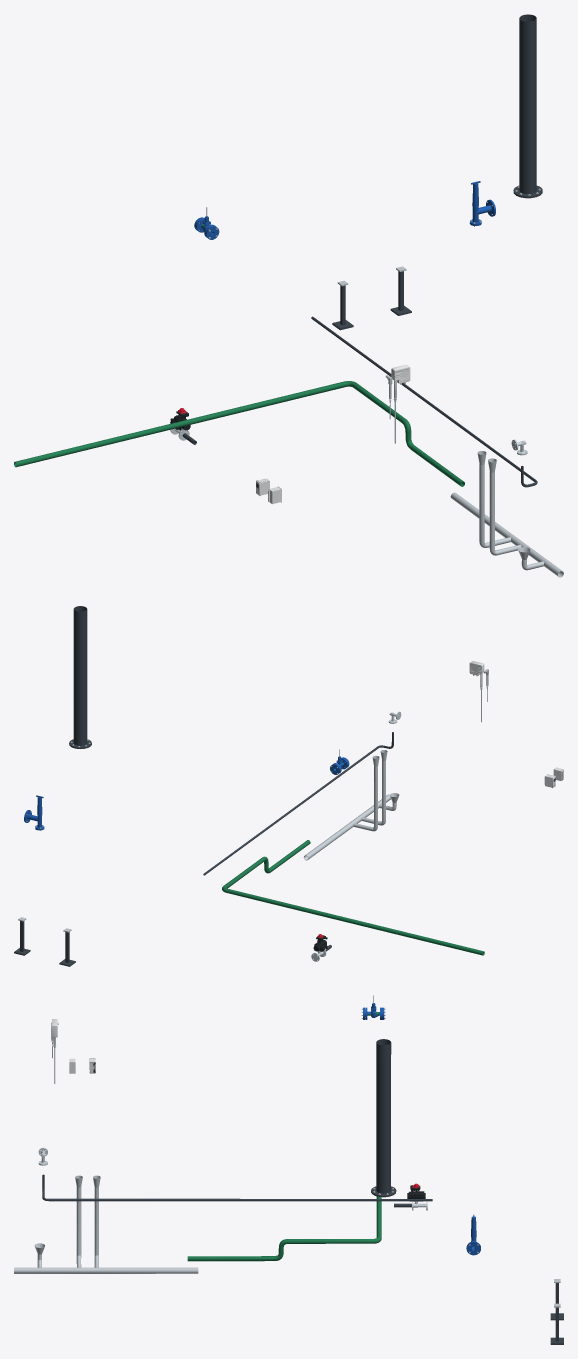
Rendered from s4000-1-Byl8d9Yd.glb.
3 renders of one model, top to bottom at view 1: azimuth 30°, elevation 25°; view 2: azimuth 150°, elevation 25°; view 3: azimuth 270°, elevation 25°, orthographic. The views are drawn at different scales.
Visible parts, largest first — view 1: bdv_vent / dark, suction_common / green, local_open_drains / steel, tds_common / dark, trap_support / dark; view 2: bdv_vent / dark, suction_common / green, local_open_drains / steel, tds_common / dark, trap_support / dark; view 3: local_open_drains / steel, bdv_vent / dark, tds_common / dark, suction_common / green.
Part boxes in pixels (x1,y1,x2,y2): bdv_vent / dark: (513,14,542,198); suction_common / green: (14,381,464,486); local_open_drains / steel: (450,451,563,577); tds_common / dark: (311,316,537,487); trap_support / dark: (332,271,411,330); bdv_vent / dark: (69,606,91,748); suction_common / green: (222,840,484,955); local_open_drains / steel: (303,750,399,860); tds_common / dark: (203,732,393,875); trap_support / dark: (14,921,75,966); local_open_drains / steel: (14,1175,198,1273); bdv_vent / dark: (371,1039,396,1197); tds_common / dark: (42,1174,432,1201); suction_common / green: (187,1196,381,1261).
Size of the model in its own units: 5.94 by 3.85 by 6.18.
